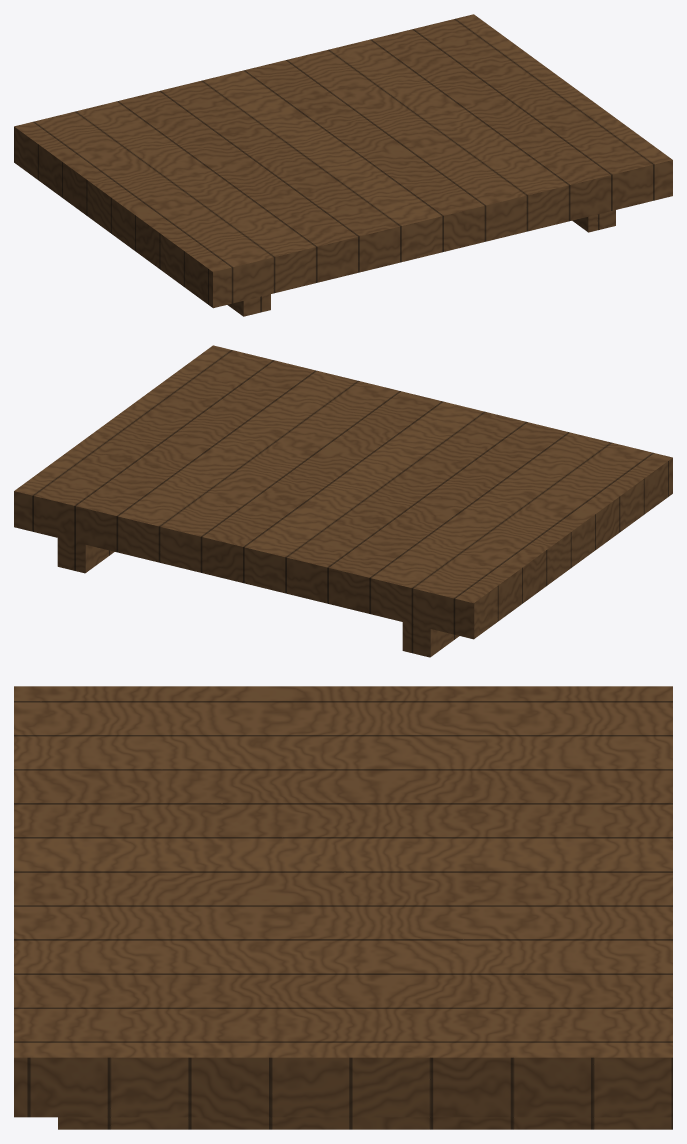
File: balcony_deck_2x1p5m.glb
3 views of the same model, one above another, from view 1: azimuth 30°, elevation 25°; view 2: azimuth 150°, elevation 25°; view 3: azimuth 270°, elevation 25° (orthographic). The views are drawn at different scales.
Parts seen in each view (by area): view 1: balcony_deck_2x1p5m_deck, balcony_deck_2x1p5m_joist_+0.8, balcony_deck_2x1p5m_joist_-0.8; view 2: balcony_deck_2x1p5m_deck, balcony_deck_2x1p5m_joist_+0.8, balcony_deck_2x1p5m_joist_-0.8; view 3: balcony_deck_2x1p5m_deck, balcony_deck_2x1p5m_joist_+0.8.
Part boxes in pixels (box(x1,y1,x2,y2)): balcony_deck_2x1p5m_deck: box(14, 14, 672, 308); balcony_deck_2x1p5m_joist_+0.8: box(572, 210, 615, 232); balcony_deck_2x1p5m_joist_-0.8: box(227, 294, 270, 316); balcony_deck_2x1p5m_deck: box(14, 345, 672, 639); balcony_deck_2x1p5m_joist_+0.8: box(57, 538, 114, 573); balcony_deck_2x1p5m_joist_-0.8: box(402, 622, 459, 657); balcony_deck_2x1p5m_deck: box(14, 686, 672, 1117); balcony_deck_2x1p5m_joist_+0.8: box(58, 1117, 672, 1129).
Size of the model in its own units: 2 by 0.27 by 1.5.
1 material, 1 textured.
